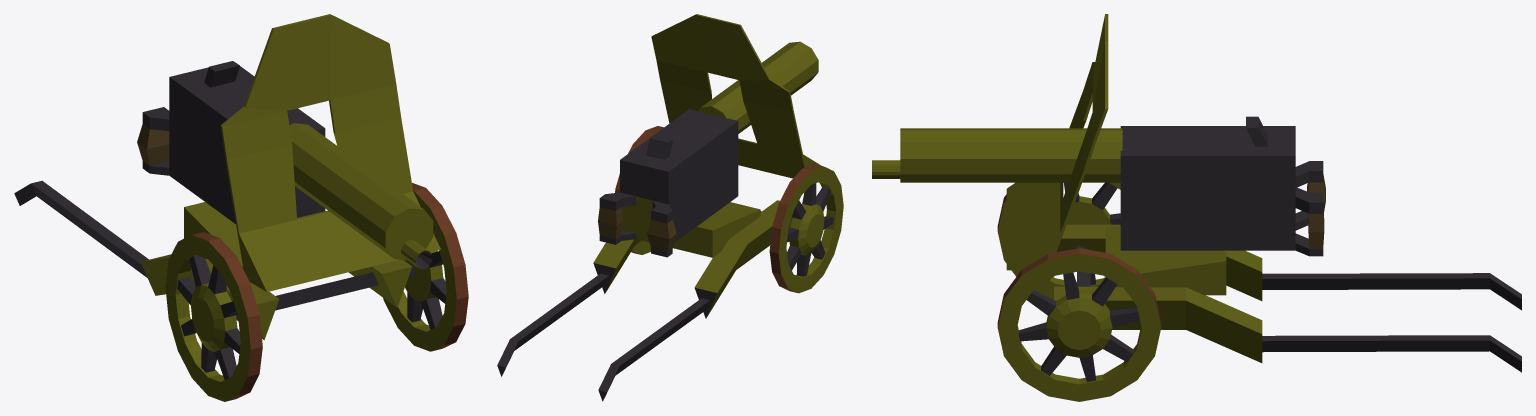
File: ckm1Rus.fbx
3 renders of one model, left to right at view 1: azimuth 30°, elevation 25°; view 2: azimuth 150°, elevation 25°; view 3: azimuth 270°, elevation 25°, orthographic. The views are drawn at different scales.
Visible parts, largest first — view 1: MKM; view 2: MKM; view 3: MKM.
Boxes of the visible parts, x1,y1,x2,y2 form: MKM: [14, 14, 468, 401]; MKM: [497, 14, 843, 401]; MKM: [872, 14, 1521, 401].
Size of the model in its own units: 165 by 233 by 425.
